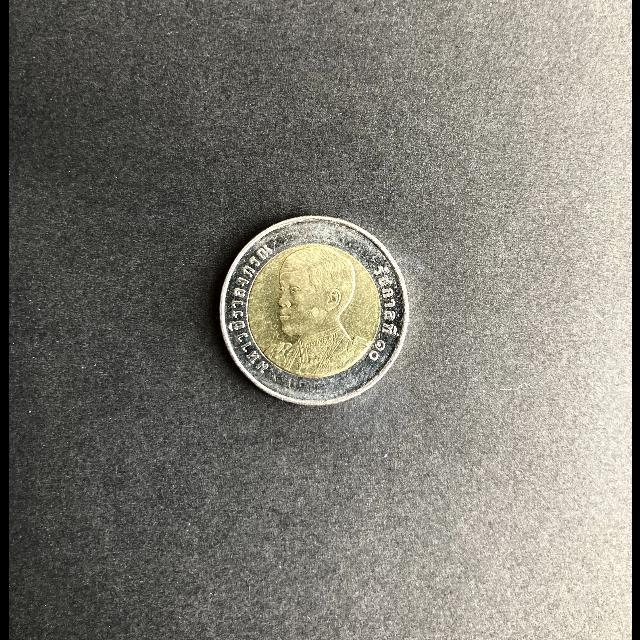10 Bath: (215, 214, 411, 410)
